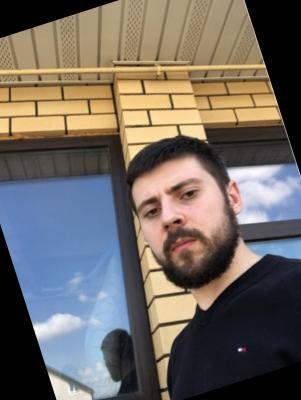without_mask: (130, 163, 249, 296)
